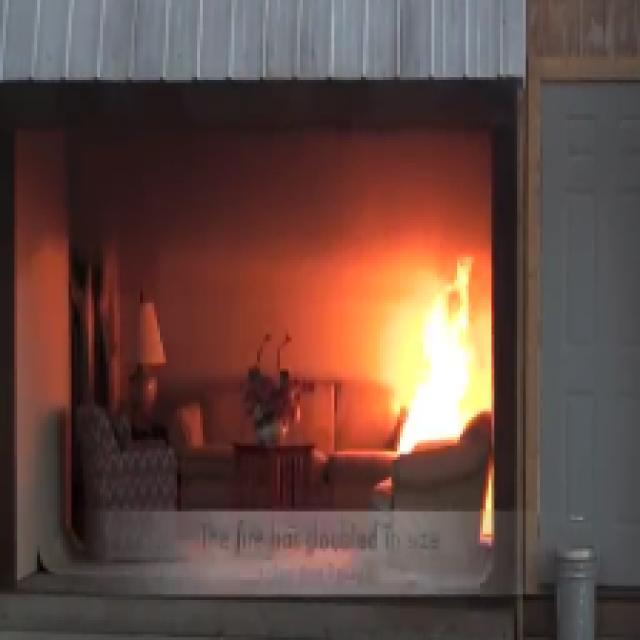Fire: (386, 273, 478, 459)
